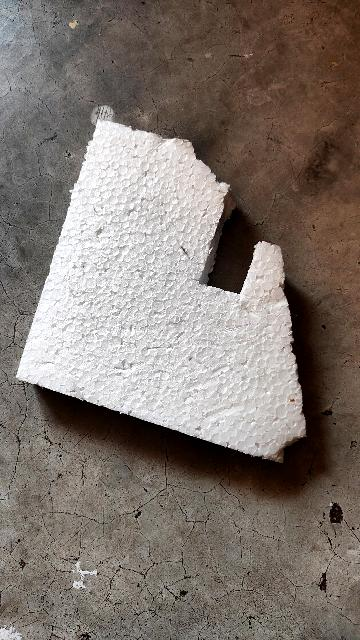cocksheet: (4, 115, 360, 488)
